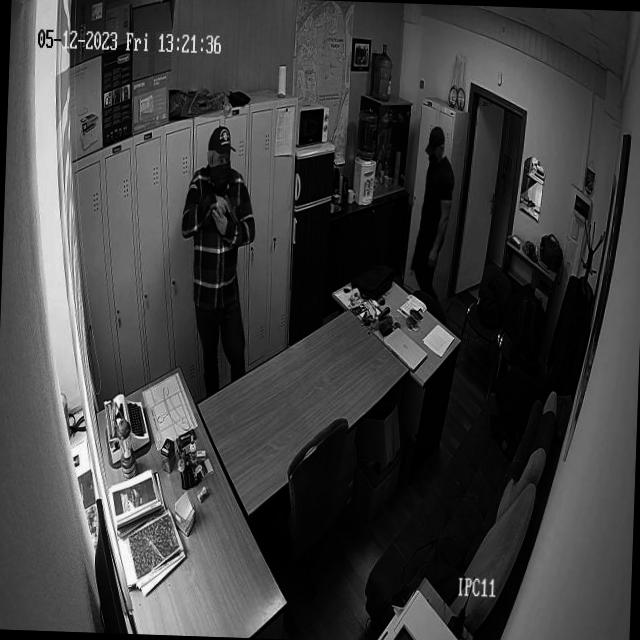gun: (222, 193, 241, 226)
person: (406, 122, 459, 284)
person with a gun: (174, 122, 260, 369)
